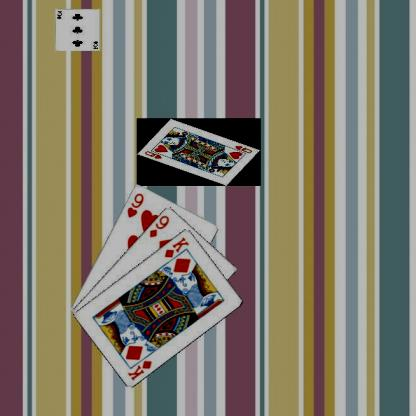9D: (147, 212, 170, 238)
9H: (124, 190, 145, 219)
KD: (162, 234, 190, 259), (126, 358, 154, 382)
